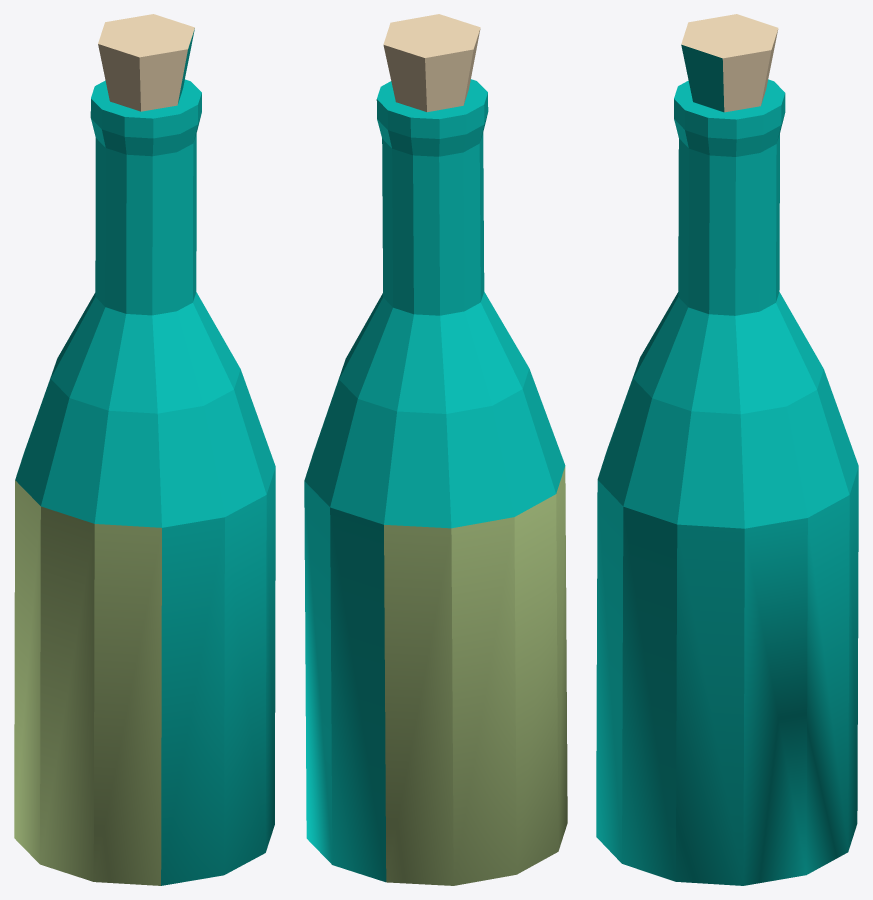
The model's file is bottle2.glb.
3 views of the same model, side by side, from view 1: azimuth 30°, elevation 25°; view 2: azimuth 150°, elevation 25°; view 3: azimuth 270°, elevation 25° (orthographic).
Parts seen in each view (by area): view 1: model.002; view 2: model.002; view 3: model.002.
Boxes of the visible parts, x1,y1,x2,y2 form: model.002: [14, 14, 275, 885]; model.002: [304, 14, 567, 885]; model.002: [596, 14, 858, 885].
Size of the model in its own units: 0.3086 by 1.03 by 0.308.
